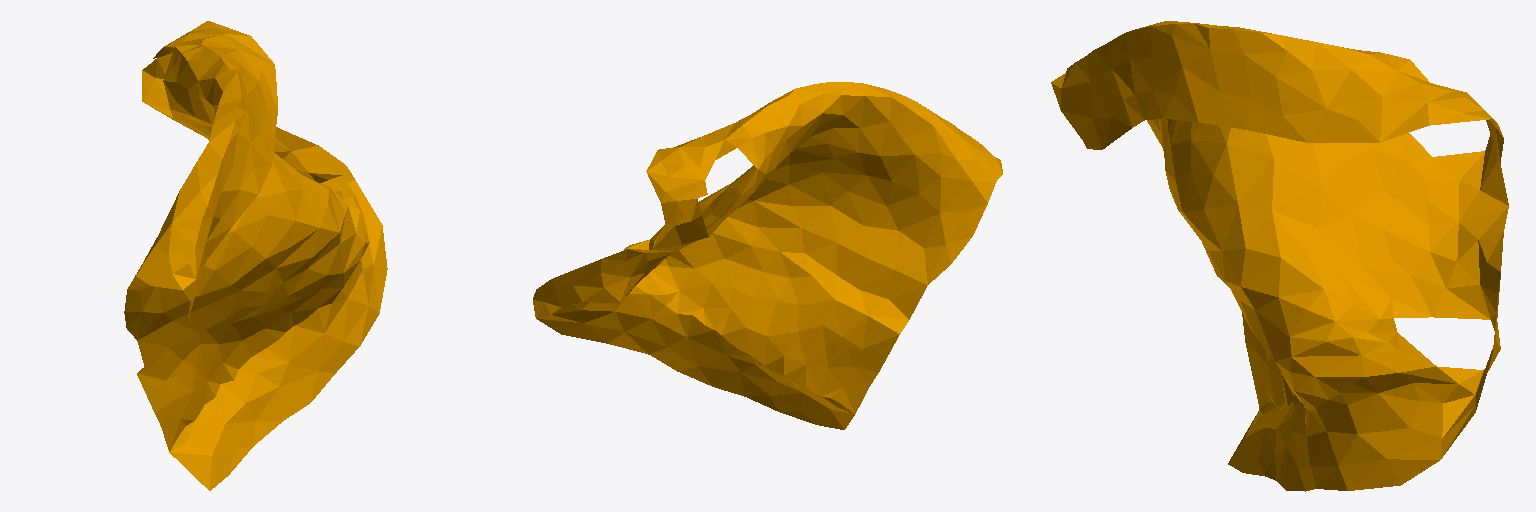
robot.urdf — init:
<?xml version='1.0' encoding='utf-8'?>
<robot name="init">
<link name="link_0"><inertial><mass value="1.0" /><origin rpy="0 0 0" xyz="0.000000 0.000000 0.000000" /><inertia ixx="1.0" ixy="0.0" ixz="0.0" iyy="1.0" iyz="0.0" izz="1.0" /></inertial><visual><origin rpy="0 0 0" xyz="0.000000 0.000000 0.000000" /><geometry><mesh filename="./clothHuman/cloth/1879.obj" /></geometry></visual><collision><origin rpy="0 0 0" xyz="0.000000 0.000000 0.000000" /><geometry><mesh filename="./clothHuman/cloth/1879.obj" /></geometry></collision></link></robot>

--- What the picture shows (computed from the rendered views, not written in the file) ---
The picture shows the robot from 3 angles, left to right: view 1: azimuth 30°, elevation 25°; view 2: azimuth 150°, elevation 25°; view 3: azimuth 270°, elevation 25°; orthographic projection.
Robot: init — 1 links, 0 joints (none); root link link_0; default pose: every joint at zero.
Links seen in each view (by area): view 1: link_0; view 2: link_0; view 3: link_0.
Boxes of the visible links, box(x1,y1,x2,y2) form: link_0: box(124, 21, 387, 490); link_0: box(533, 82, 1002, 429); link_0: box(1051, 21, 1508, 491).
Size in the robot's own frame: 3.49 by 3.1 by 3.39 metres.
Meshes: 1 distinct files referenced, 1 mesh visuals loaded (1 OBJ).